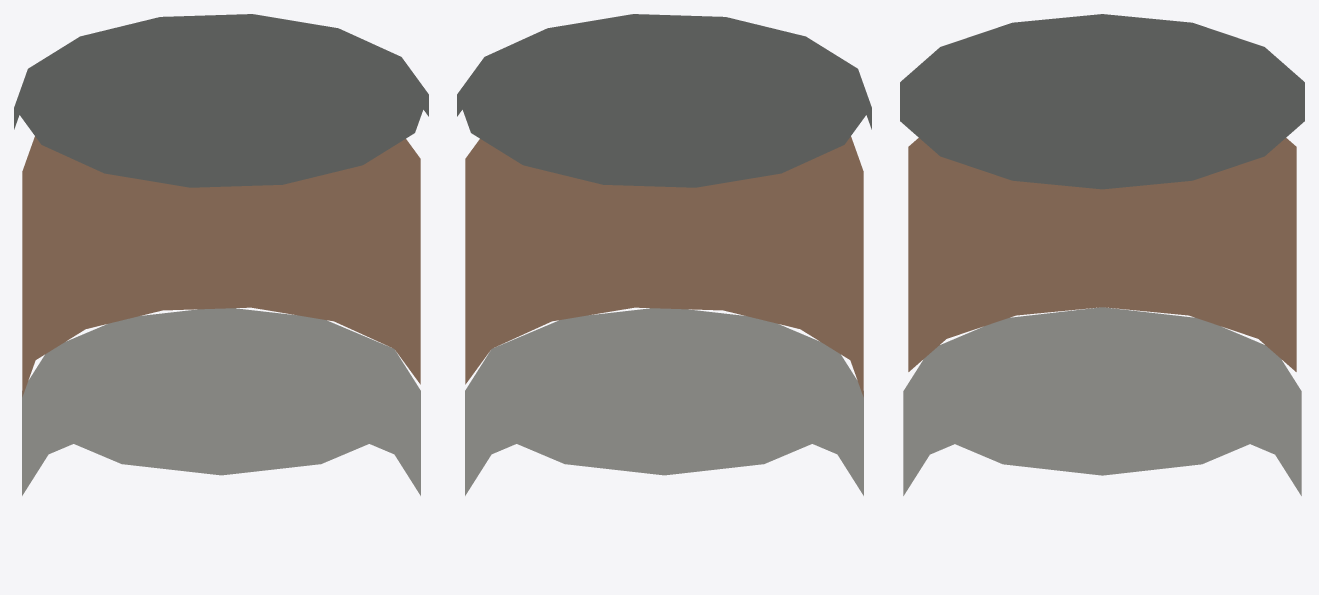
File: i_tank_water.glb
3 renders of one model, left to right at view 1: azimuth 30°, elevation 25°; view 2: azimuth 150°, elevation 25°; view 3: azimuth 270°, elevation 25°, orthographic.
Visible parts, largest first — view 1: body; view 2: body; view 3: body.
Boxes of the visible parts, box(x1,y1,x2,y2) form: body: box(14, 14, 428, 495); body: box(457, 14, 871, 495); body: box(900, 14, 1304, 495).
Size of the model in its own units: 5 by 5.25 by 4.87.
